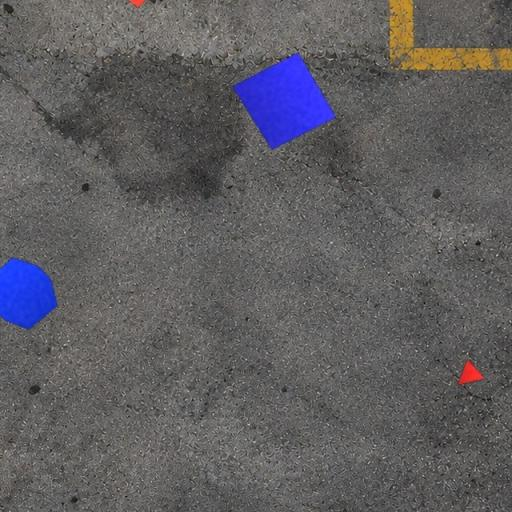BLUE_SQUARE: (232, 52, 337, 150)
